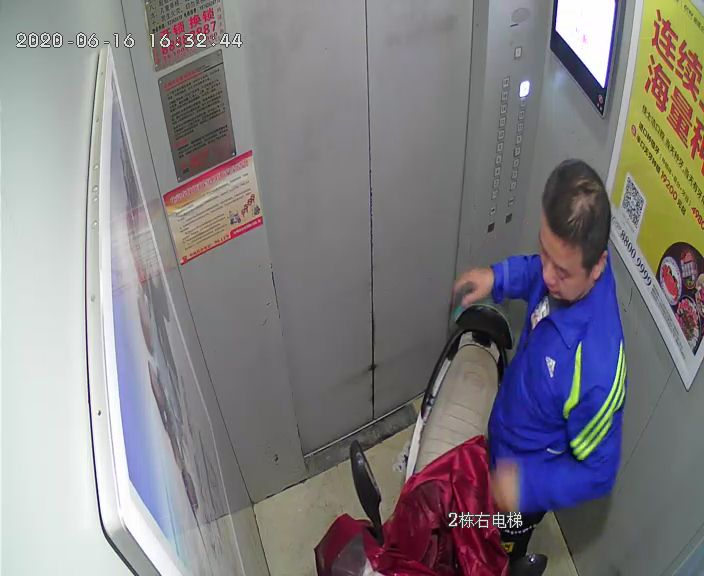Electric-bicycle: (348, 302, 546, 575)
